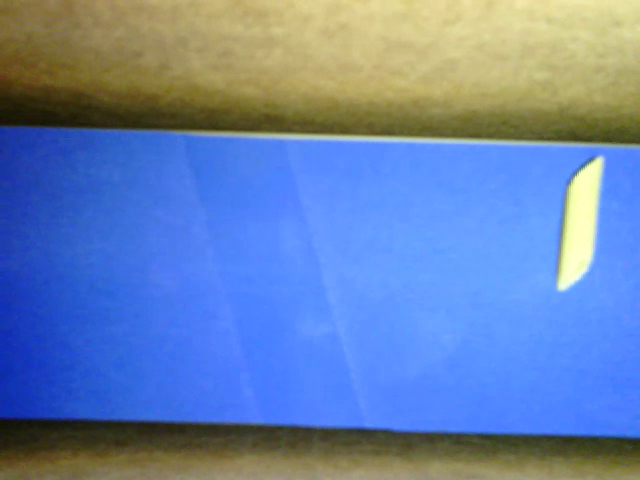penne: (555, 154, 604, 291)
